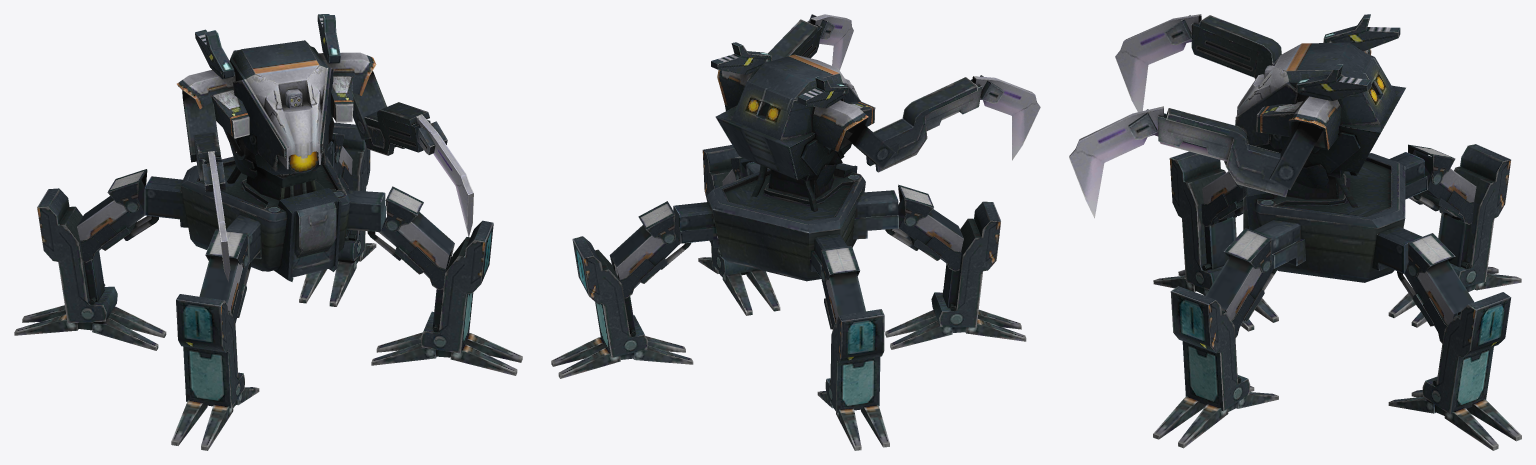
The picture shows the model from 3 angles, left to right: view 1: azimuth 30°, elevation 25°; view 2: azimuth 150°, elevation 25°; view 3: azimuth 270°, elevation 25°; orthographic projection. The views are drawn at different scales.
Parts seen in each view (by area): view 1: 20_10; view 2: 20_10; view 3: 20_10.
Part boxes in pixels (<box>): 20_10: <box>14,14,522,450</box>; 20_10: <box>551,14,1040,450</box>; 20_10: <box>1069,14,1521,450</box>.
Bounding box in the file's own units: 301 × 252 × 320.
